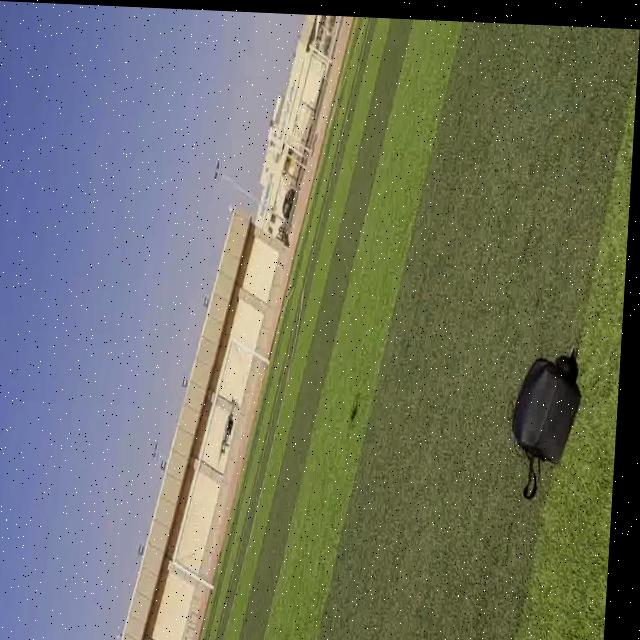drone: (217, 388, 248, 465)
